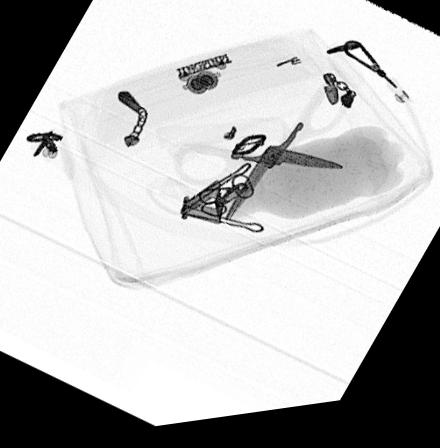Scissors: (170, 85, 348, 229)
